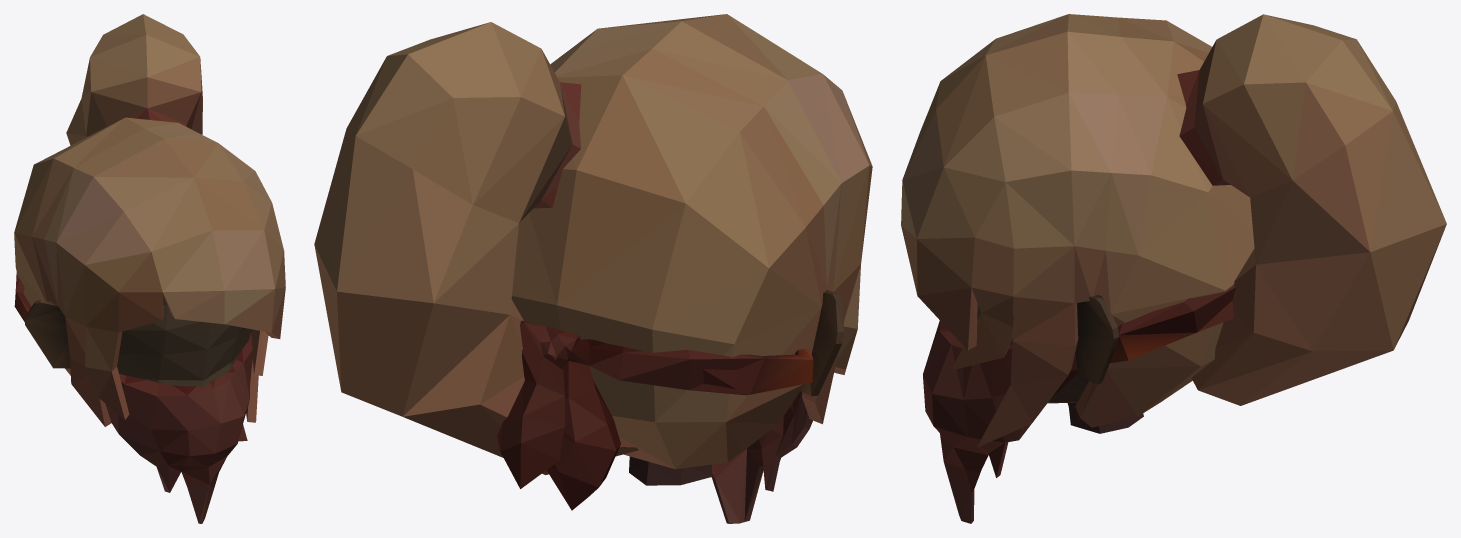
Rendered from helm_darkskin_ponytail_blonde_bandana.fbx.
3 renders of one model, left to right at view 1: azimuth 30°, elevation 25°; view 2: azimuth 150°, elevation 25°; view 3: azimuth 270°, elevation 25°, orthographic. The views are drawn at different scales.
Parts seen in each view (by area): view 1: helm_darkskin_ponytail_blonde_bandana; view 2: helm_darkskin_ponytail_blonde_bandana; view 3: helm_darkskin_ponytail_blonde_bandana.
Part boxes in pixels (x1=…): helm_darkskin_ponytail_blonde_bandana: x1=14, y1=14, x2=285, y2=523; helm_darkskin_ponytail_blonde_bandana: x1=314, y1=14, x2=872, y2=523; helm_darkskin_ponytail_blonde_bandana: x1=901, y1=14, x2=1446, y2=523.
Bounding box in the file's own units: 1.21 × 1.8 × 1.64.
